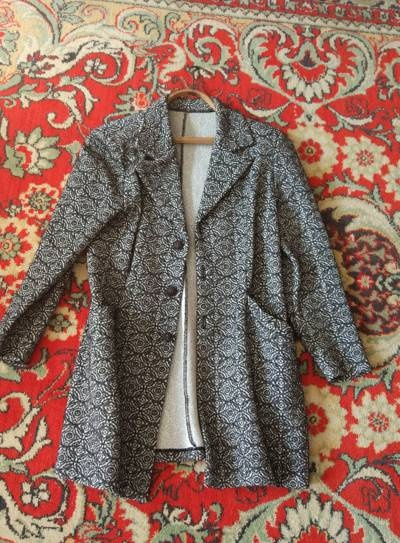Blazer: (3, 83, 361, 519)
